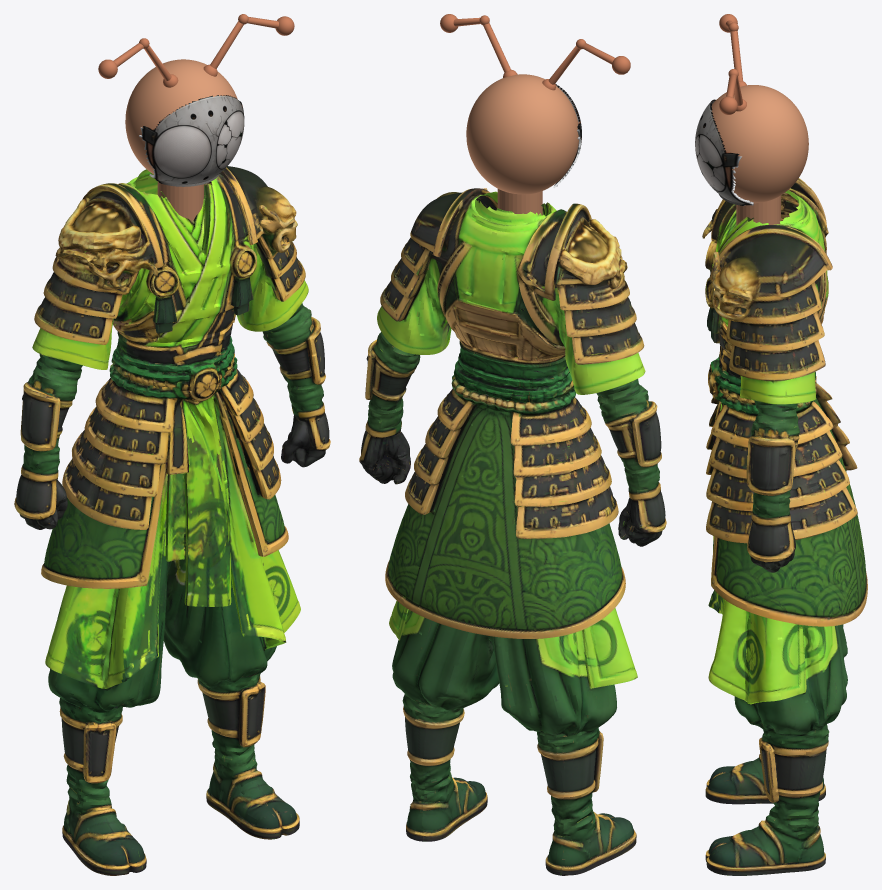
Rendered from rebel_4998_static_source_shogun_v5_head.glb.
The picture shows the model from 3 angles, left to right: view 1: azimuth 30°, elevation 25°; view 2: azimuth 150°, elevation 25°; view 3: azimuth 270°, elevation 25°; orthographic projection. The views are drawn at different scales.
Parts seen in each view (by area): view 1: Mesh_0; view 2: Mesh_0; view 3: Mesh_0.
Part boxes in pixels (x1,y1,x2,y2): Mesh_0: (14,14,330,875); Mesh_0: (359,14,666,875); Mesh_0: (695,14,867,875).
Size of the model in its own units: 0.7644 by 1.94 by 0.3888.
5 materials, 2 textured.
